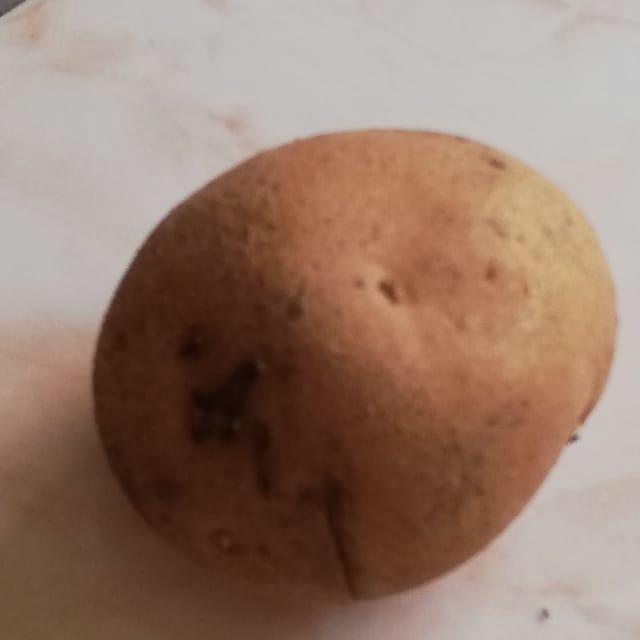potato: (75, 82, 640, 625)
